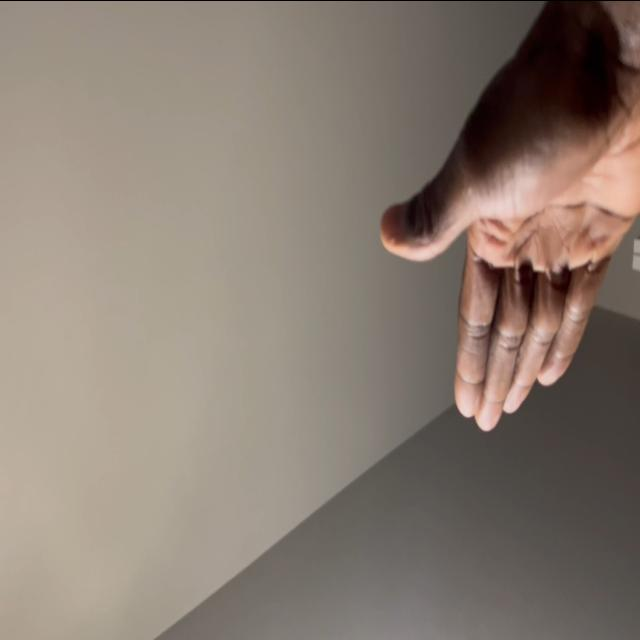Paper: (376, 23, 640, 429)
